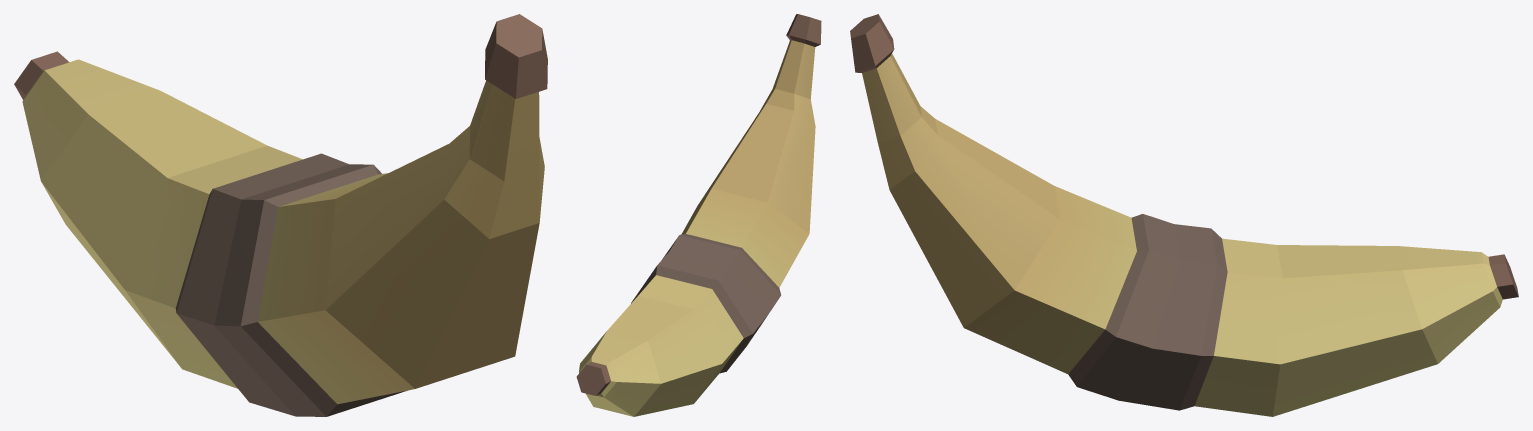
File: enBeltBanana.fbx
3 renders of one model, left to right at view 1: azimuth 30°, elevation 25°; view 2: azimuth 150°, elevation 25°; view 3: azimuth 270°, elevation 25°, orthographic. The views are drawn at different scales.
Visible parts, largest first — view 1: enBeltBanana; view 2: enBeltBanana; view 3: enBeltBanana.
Boxes of the visible parts, box(x1,y1,x2,y2) form: enBeltBanana: box(14, 14, 547, 416); enBeltBanana: box(576, 14, 821, 416); enBeltBanana: box(850, 14, 1518, 416).
Bounding box in the file's own units: 0.0773 × 0.1702 × 0.2671.
